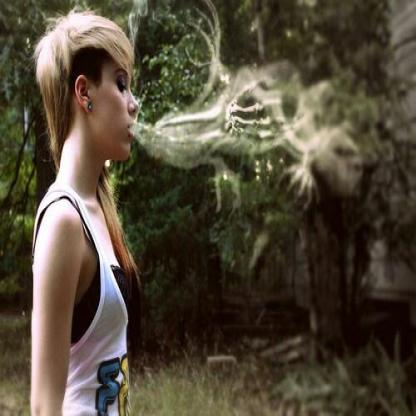smoke: (149, 82, 335, 192)
